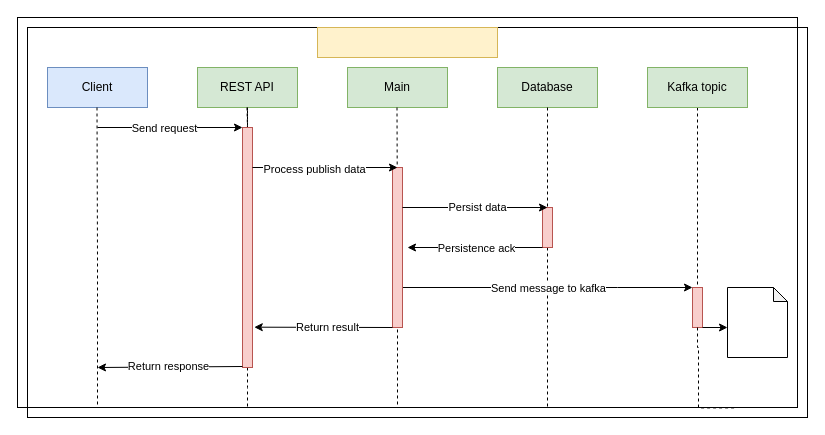
This 825x435 diagram has some shape labels left out. The centre of each missing label's shape, as x and y in pixels:
process book and author: [757,322]
Publish flow: [407,42]
